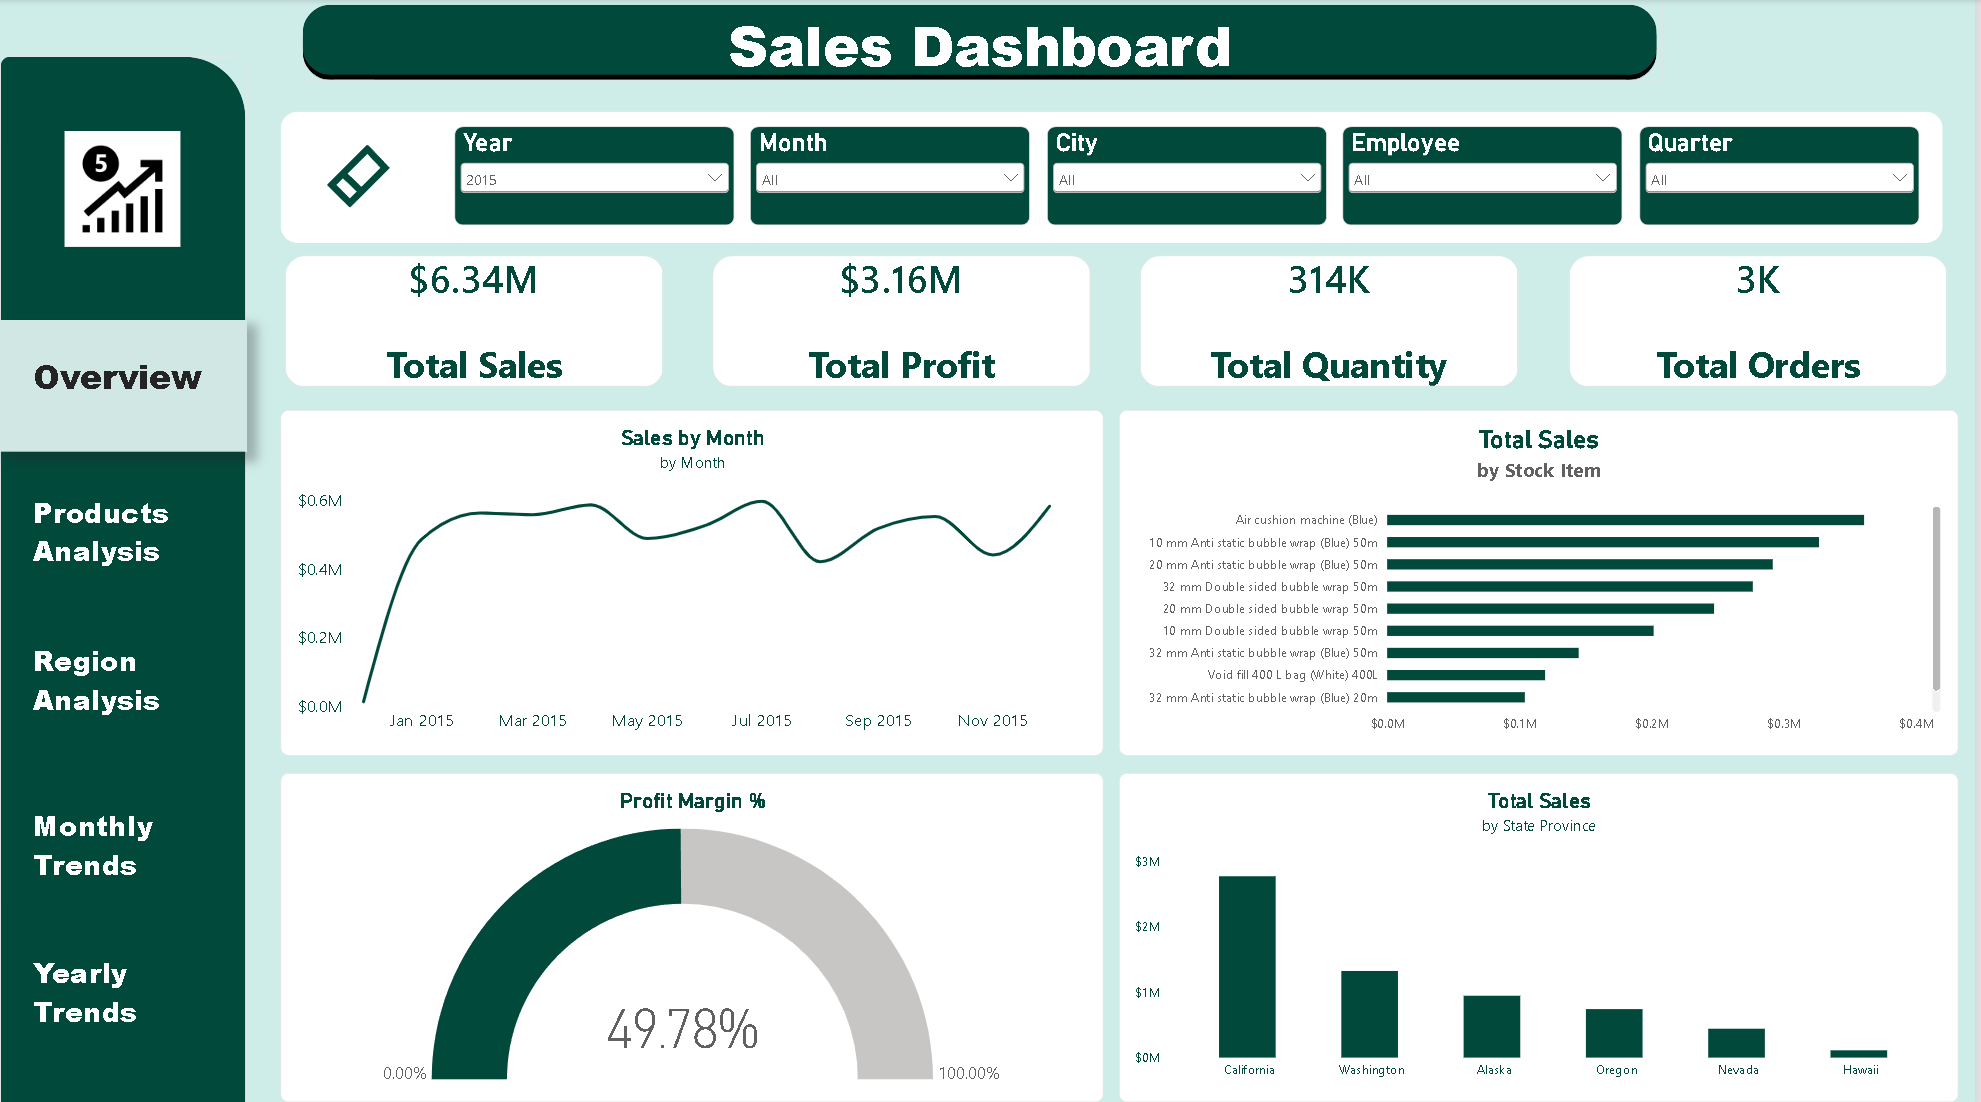

This screenshot's page, from the dashboard's own definition file:
{"tool":"powerbi","page":{"name":"Overview","canvas":[1920,1080],"ordinal":0},"visuals":[{"type":"cardVisual","fields":{"Data":["FactSale1.Total Sales"]},"box":[276.7,249.9,368,128],"z":0},{"type":"cardVisual","fields":{"Data":["FactSale1.Total Profit"]},"box":[692.7,249.9,368,128],"z":1000},{"type":"cardVisual","fields":{"Data":["FactSale1.Total Quantity"]},"box":[1108.7,249.9,368,128],"z":2000},{"type":"cardVisual","fields":{"Data":["FactSale1.Total Orders"]},"box":[1524.7,249.9,368,128],"z":3000},{"type":"shape","box":[273.3,109.3,1616,128],"z":4000},{"type":"slicer","fields":{"Values":["FactSale1.Delivery Date Key.Variation.Date Hierarchy.Year"]},"box":[441.8,124.7,272,96],"z":5000},{"type":"slicer","fields":{"Values":["FactSale1.Delivery Date Key.Variation.Date Hierarchy.Month"]},"box":[729.8,124.7,272,96],"z":6000},{"type":"slicer","fields":{"Values":["DimCity6.City"]},"box":[1017.8,124.7,272,96],"z":7000},{"type":"slicer","fields":{"Values":["DimEmployee3.Employee"]},"box":[1305.8,124.7,272,96],"z":8000},{"type":"slicer","fields":{"Values":["FactSale1.Delivery Date Key.Variation.Date Hierarchy.Quarter"]},"box":[1593.8,124.7,272,96],"z":9000},{"type":"shape","box":[288,0,1328,80],"z":10000},{"type":"shape","box":[0,55.6,239.9,1023.7],"z":11000},{"type":"actionButton","box":[289.3,125.3,112,96],"z":12000},{"type":"image","box":[32,128,173.8,113],"z":13000},{"type":"textbox","box":[32,480,208,96],"z":14000},{"type":"textbox","box":[32,624,208,96],"z":15000},{"type":"textbox","box":[32,784,208,96],"z":16000},{"type":"textbox","box":[16,848,234.6,99.1],"z":17000},{"type":"textbox","box":[32,928,208,112],"z":18000},{"type":"shape","box":[0,312.3,240,128],"z":19000},{"type":"textbox","box":[32,344.3,224,96],"z":20000},{"type":"lineChart","title":"Sales by Month","fields":{"Category":["DimDate4 (2).Date.Variation.Date Hierarchy.Year","DimDate4 (2).Date.Variation.Date Hierarchy.Month"],"Y":["FactSale1.Total Sales"]},"box":[272,400,800,336],"z":21000},{"type":"clusteredBarChart","fields":{"Category":["DimStockItem2.Stock Item"],"Y":["FactSale1.Total Sales"]},"box":[1088,400,816,336],"z":22000},{"type":"gauge","fields":{"Y":["FactSale1.Profit Margin %"]},"box":[272,752,800,320],"z":23000},{"type":"columnChart","fields":{"Category":["DimCity6.State Province"],"Y":["FactSale1.Total Sales"]},"box":[1088,752,816,320],"z":24000}]}

Visuals, with their boxes in screenshot pixels (x1, y1, x2, y2), scaled from the page's 1920x1080 canvas onto the 1981x1102 screenshot:
cardVisual - FactSale1.Total Sales: 285 255 665 386
cardVisual - FactSale1.Total Profit: 715 255 1094 386
cardVisual - FactSale1.Total Quantity: 1144 255 1524 386
cardVisual - FactSale1.Total Orders: 1573 255 1953 386
shape: 282 112 1949 242
slicer - FactSale1.Delivery Date Key.Variation.Date Hierarchy.Year: 456 127 736 225
slicer - FactSale1.Delivery Date Key.Variation.Date Hierarchy.Month: 753 127 1034 225
slicer - DimCity6.City: 1050 127 1331 225
slicer - DimEmployee3.Employee: 1347 127 1628 225
slicer - FactSale1.Delivery Date Key.Variation.Date Hierarchy.Quarter: 1644 127 1925 225
shape: 297 0 1667 82
shape: 0 57 248 1101
actionButton: 298 128 414 226
image: 33 131 212 246
textbox: 33 490 248 588
textbox: 33 637 248 735
textbox: 33 800 248 898
textbox: 17 865 259 966
textbox: 33 947 248 1061
shape: 0 319 248 449
textbox: 33 351 264 449
"Sales by Month" lineChart: 281 408 1106 751
clusteredBarChart - DimStockItem2.Stock Item x FactSale1.Total Sales: 1123 408 1964 751
gauge - FactSale1.Profit Margin %: 281 767 1106 1094
columnChart - DimCity6.State Province x FactSale1.Total Sales: 1123 767 1964 1094
